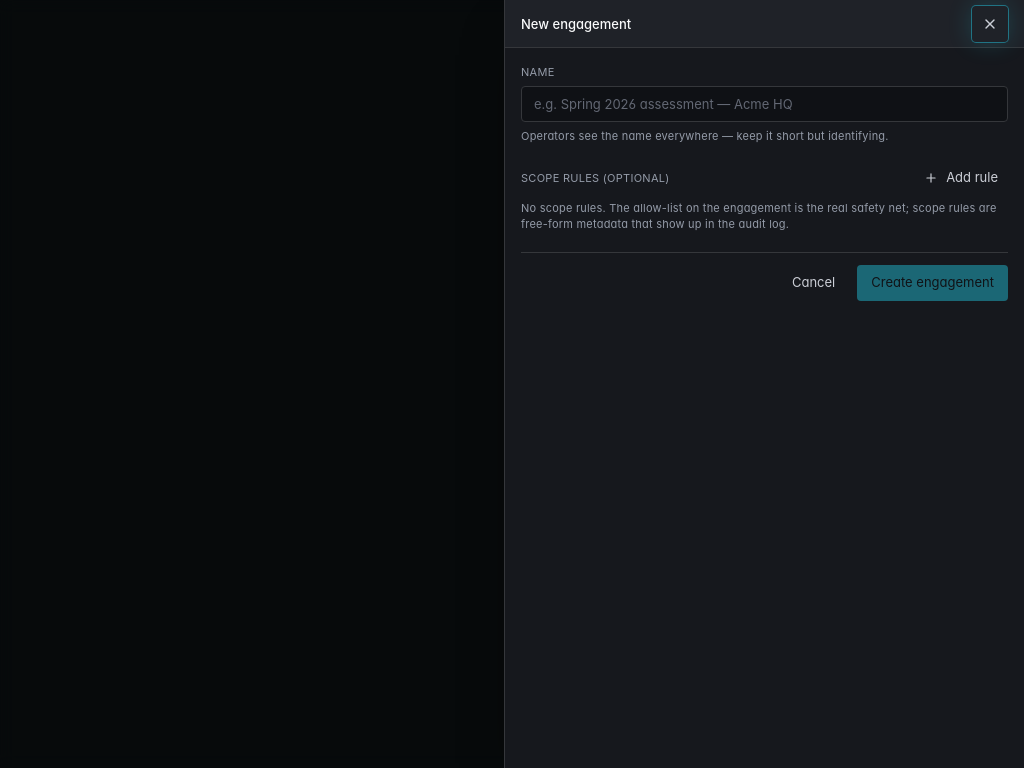
it: CreateEngagementDrawer › removes a scope rule when the trash icon is clicked
What coordinates should you click on to do the following:
click the button "Add rule"
I would click on:
 (961, 178)
Its box is [914,164,1008,192].
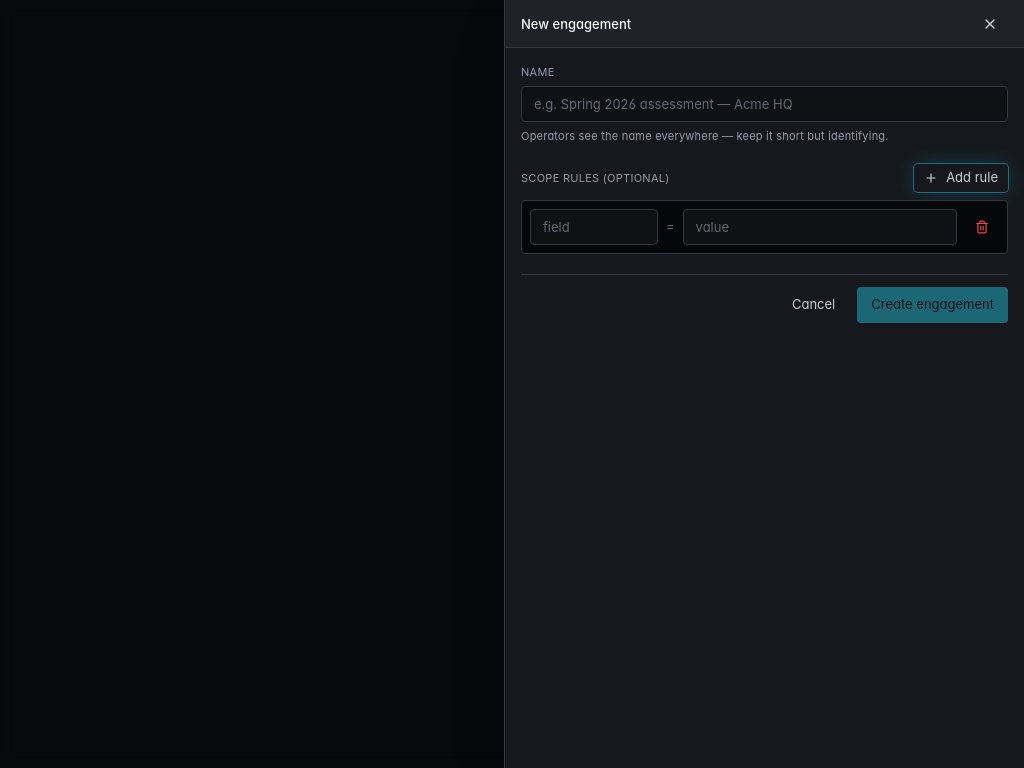
Expected: the list with test id "scope-rules" is shown, [521,200,1008,254]
What coordinates should you click on to do the following:
click the button named "remove scope rule"
I would click on:
 (982, 227)
Its box is [965,213,999,241].
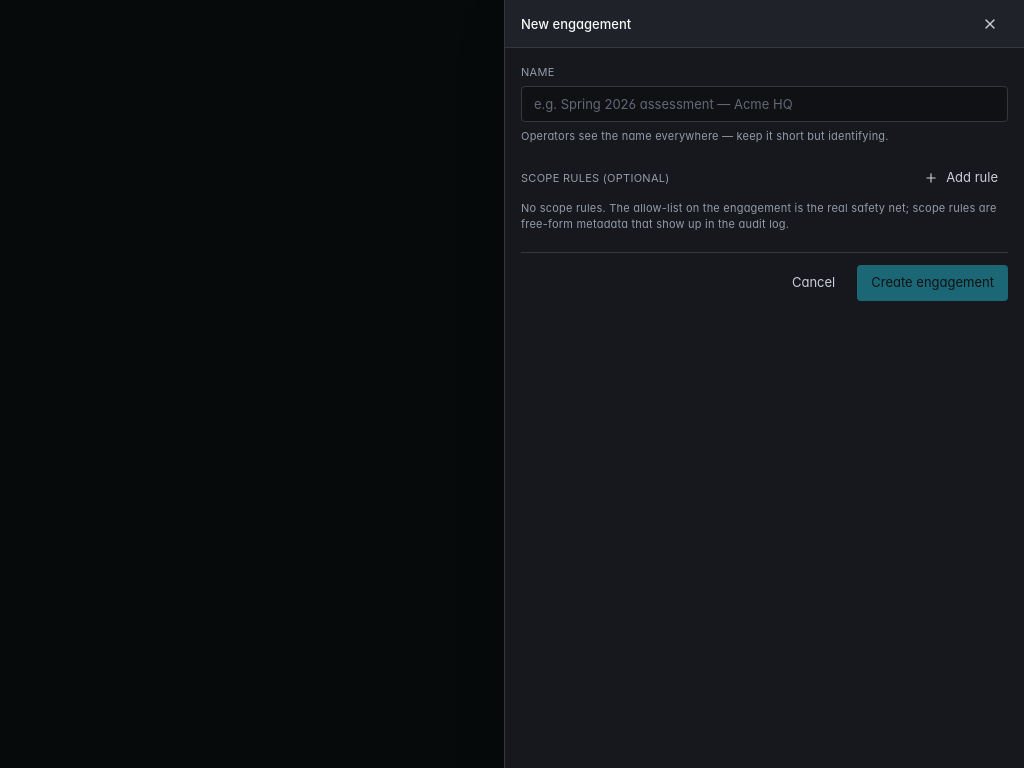
Expected: the list with test id "scope-rules" is gone
